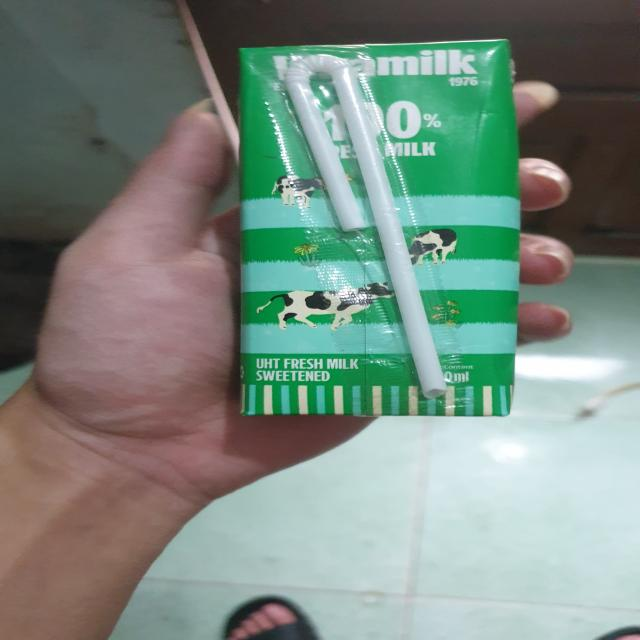Vina: (232, 41, 526, 423)
